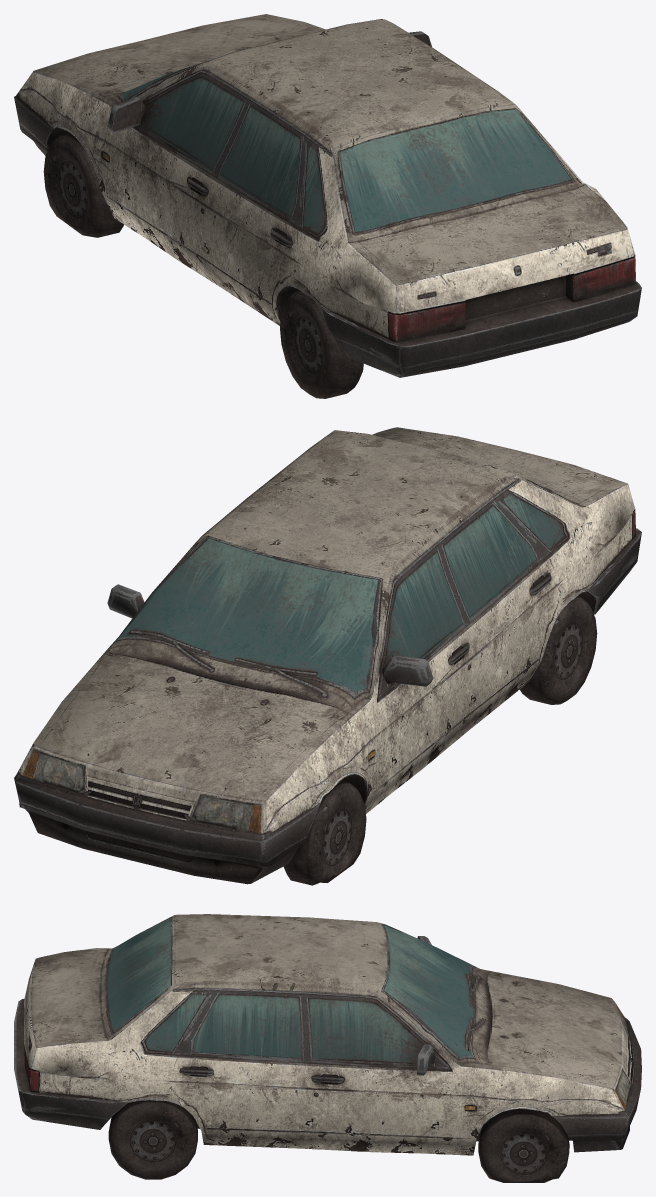
The model's file is 1991_vaz_21099.glb.
3 renders of one model, top to bottom at view 1: azimuth 30°, elevation 25°; view 2: azimuth 150°, elevation 25°; view 3: azimuth 270°, elevation 25°, orthographic. The views are drawn at different scales.
Parts seen in each view (by area): view 1: Box001; view 2: Box001; view 3: Box001.
Boxes of the visible parts, left/top/right/bottom form: Box001: left=14, top=14, right=641, bottom=398; Box001: left=14, top=427, right=641, bottom=885; Box001: left=14, top=914, right=641, bottom=1182.
Bounding box in the file's own units: 202 × 141 × 429.
1 material, 1 textured.
